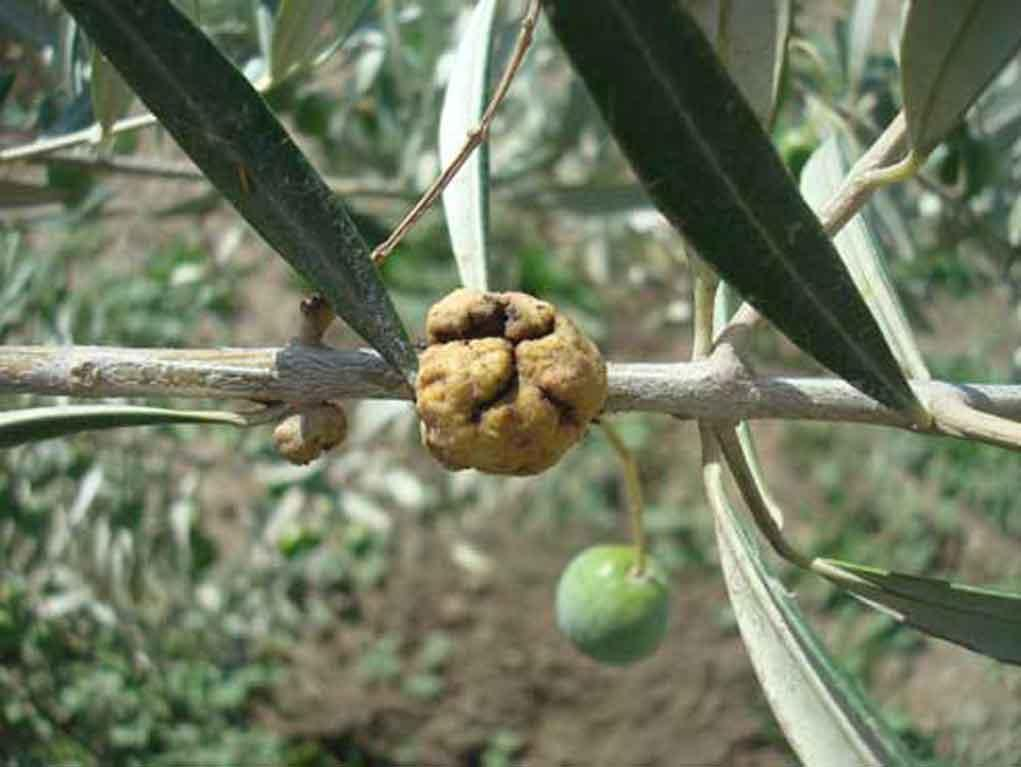Tuberculosis: (418, 282, 614, 480), (272, 398, 349, 468)
